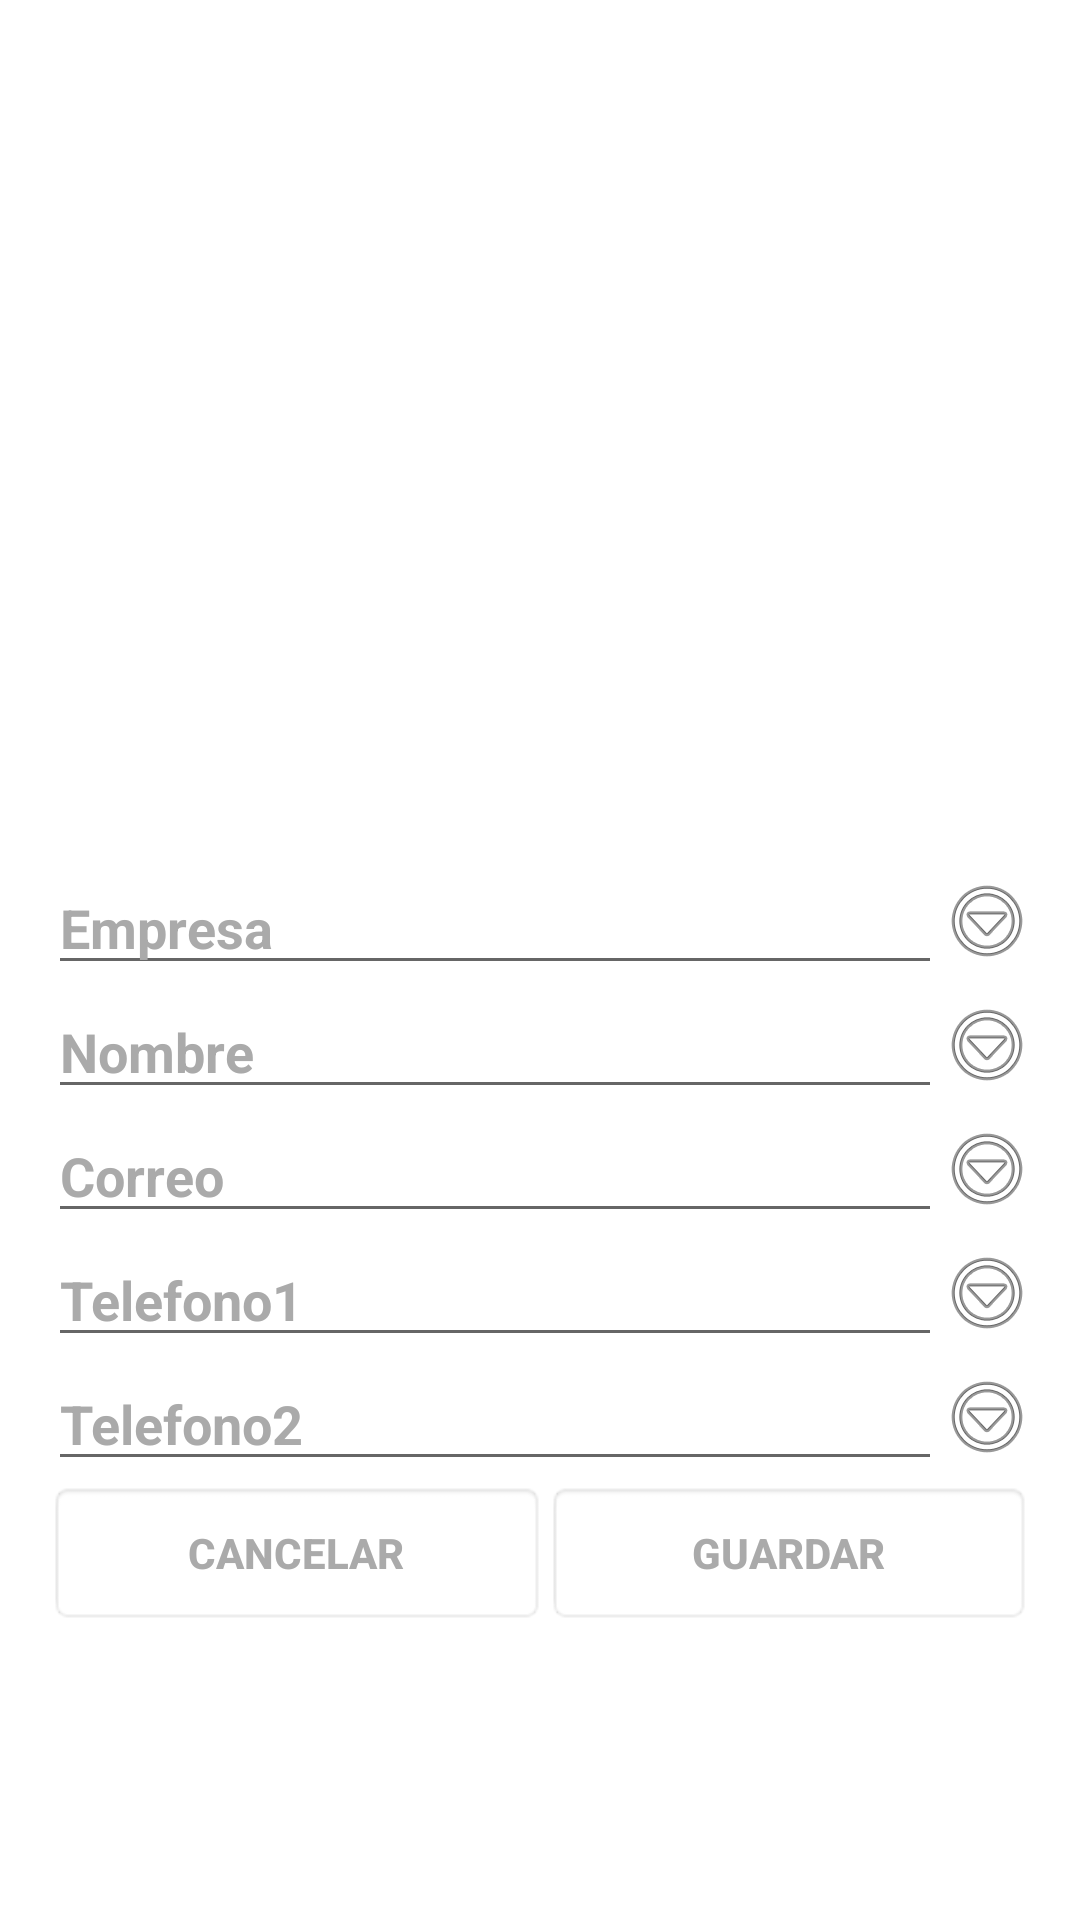

Where icons sit on this 1080 x 1920 app screen, as (x1, y1, x2, y2):
more: (951, 885, 1023, 957), (951, 1009, 1023, 1081), (951, 1133, 1023, 1205), (951, 1257, 1023, 1329), (951, 1381, 1023, 1453)
